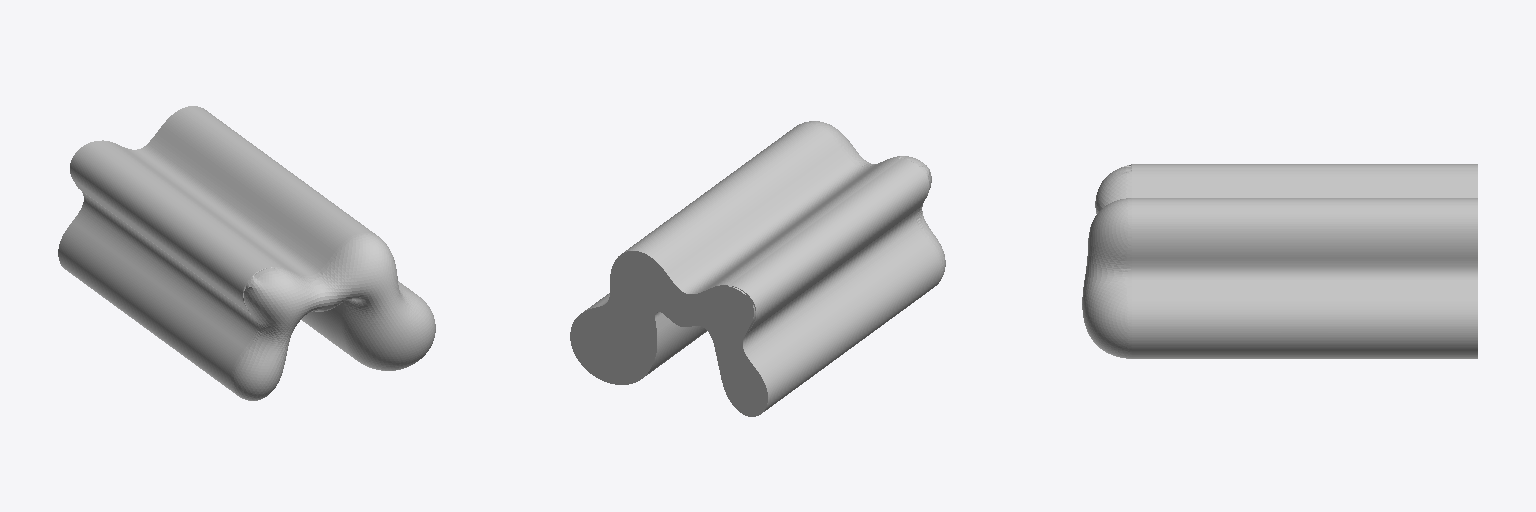
The model's file is Asset 1.obj.
3 views of the same model, side by side, from view 1: azimuth 30°, elevation 25°; view 2: azimuth 150°, elevation 25°; view 3: azimuth 270°, elevation 25° (orthographic).
Visible parts, largest first — view 1: groupNumber_0; view 2: groupNumber_0; view 3: groupNumber_0.
Part boxes in pixels (x1,y1,x2,y2): groupNumber_0: (58, 106, 435, 400); groupNumber_0: (570, 121, 945, 416); groupNumber_0: (1082, 164, 1477, 358).
Size of the model in its own units: 19.05 by 12.79 by 32.96.